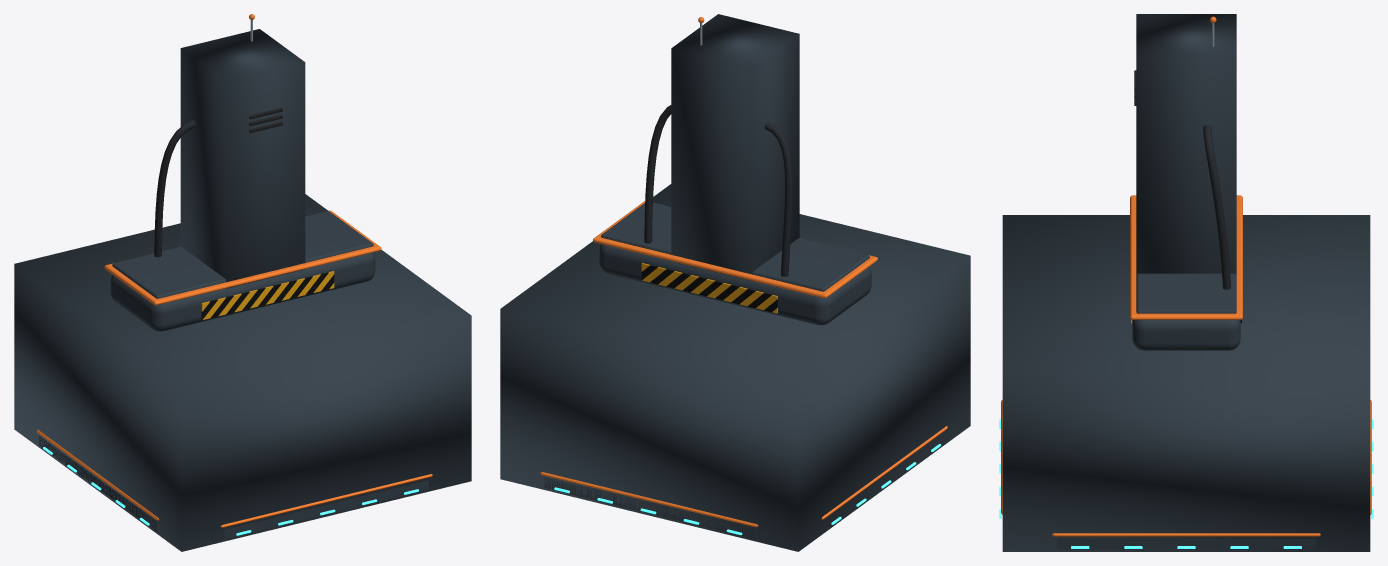
File: drill.glb
3 views of the same model, side by side, from view 1: azimuth 30°, elevation 25°; view 2: azimuth 150°, elevation 25°; view 3: azimuth 270°, elevation 25° (orthographic). The views are drawn at different scales.
Visible parts, largest first — view 1: COL_body, COL_mast, bridge top, bridge, plinth, bridge lip, plinth lip, bridge hazard -1 mars:hazard yellow, bridge hazard -1 mars:hazard black, hose -1; view 2: COL_body, COL_mast, bridge top, bridge, bridge lip, plinth lip, hose -1, bridge hazard 1 mars:hazard black, bridge hazard 1 mars:hazard yellow, plinth, hose 1; view 3: COL_body, COL_mast, bridge top, bridge, plinth, bridge lip, plinth lip, hose 1.
Boxes of the visible parts, left/top/right/bottom form: COL_body: left=14, top=194, right=471, bottom=551; COL_mast: left=180, top=29, right=305, bottom=288; bridge top: left=112, top=211, right=373, bottom=298; bridge: left=110, top=252, right=375, bottom=331; plinth: left=39, top=436, right=428, bottom=539; bridge lip: left=104, top=210, right=381, bottom=305; plinth lip: left=36, top=429, right=432, bottom=527; bridge hazard -1 mars:hazard yellow: left=201, top=271, right=334, bottom=319; bridge hazard -1 mars:hazard black: left=201, top=272, right=334, bottom=319; hose -1: left=154, top=120, right=195, bottom=257; COL_body: left=500, top=184, right=970, bottom=551; COL_mast: left=671, top=14, right=799, bottom=281; bridge top: left=601, top=202, right=869, bottom=291; bridge: left=599, top=244, right=871, bottom=325; bridge lip: left=593, top=201, right=877, bottom=298; plinth lip: left=540, top=426, right=947, bottom=527; hose -1: left=764, top=122, right=792, bottom=276; bridge hazard 1 mars:hazard black: left=641, top=265, right=777, bottom=312; bridge hazard 1 mars:hazard yellow: left=641, top=263, right=777, bottom=313; plinth: left=544, top=478, right=754, bottom=538; hose 1: left=644, top=105, right=671, bottom=243; COL_body: left=1002, top=215, right=1370, bottom=551; COL_mast: left=1136, top=14, right=1236, bottom=274; bridge top: left=1136, top=273, right=1236, bottom=313; bridge: left=1132, top=320, right=1240, bottom=350; plinth: left=1057, top=539, right=1315, bottom=549; bridge lip: left=1130, top=195, right=1242, bottom=319; plinth lip: left=1001, top=400, right=1371, bottom=536; hose 1: left=1203, top=124, right=1231, bottom=289.
Size of the model in its own units: 4.48 by 6.69 by 4.48.
